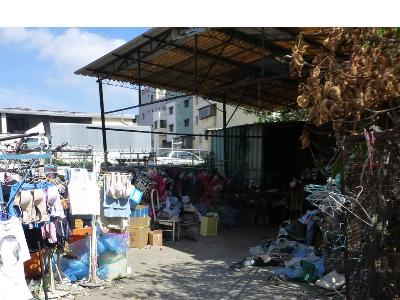box: (198, 213, 220, 237), (148, 229, 164, 248), (129, 188, 141, 208)
plastic_bag: (273, 261, 326, 281), (67, 236, 89, 280), (97, 232, 126, 255)
